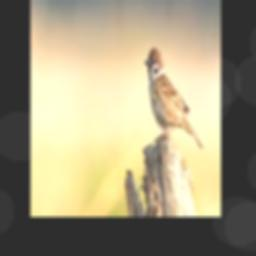Sparrow: (145, 47, 203, 150)
